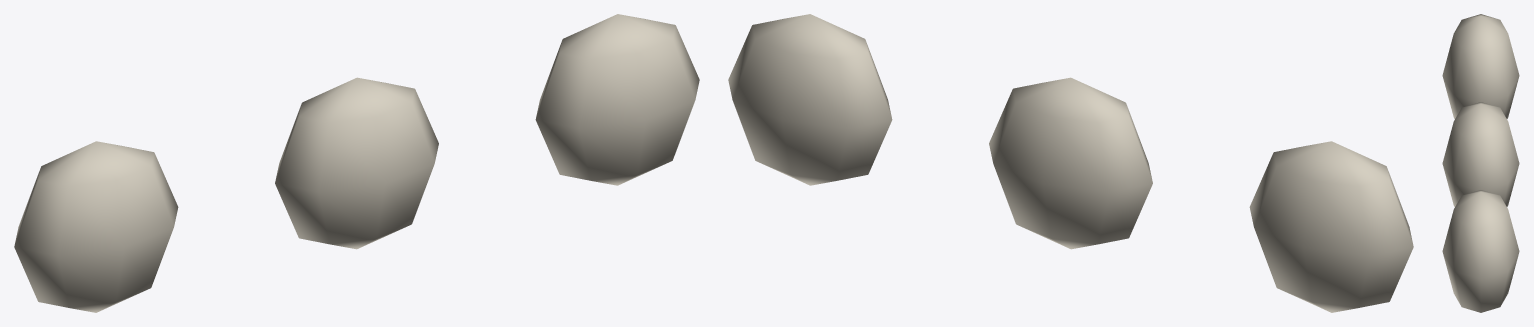
The model's file is queue.glb.
3 views of the same model, side by side, from view 1: azimuth 30°, elevation 25°; view 2: azimuth 150°, elevation 25°; view 3: azimuth 270°, elevation 25° (orthographic). The views are drawn at different scales.
Parts seen in each view (by area): view 1: queue; view 2: queue; view 3: queue.
Part boxes in pixels (box(x1,y1,x2,y2)): queue: box(14, 14, 699, 312); queue: box(728, 14, 1413, 312); queue: box(1442, 14, 1519, 312).
Bounding box in the file's own units: 0.3195 × 0.0765 × 0.045.
